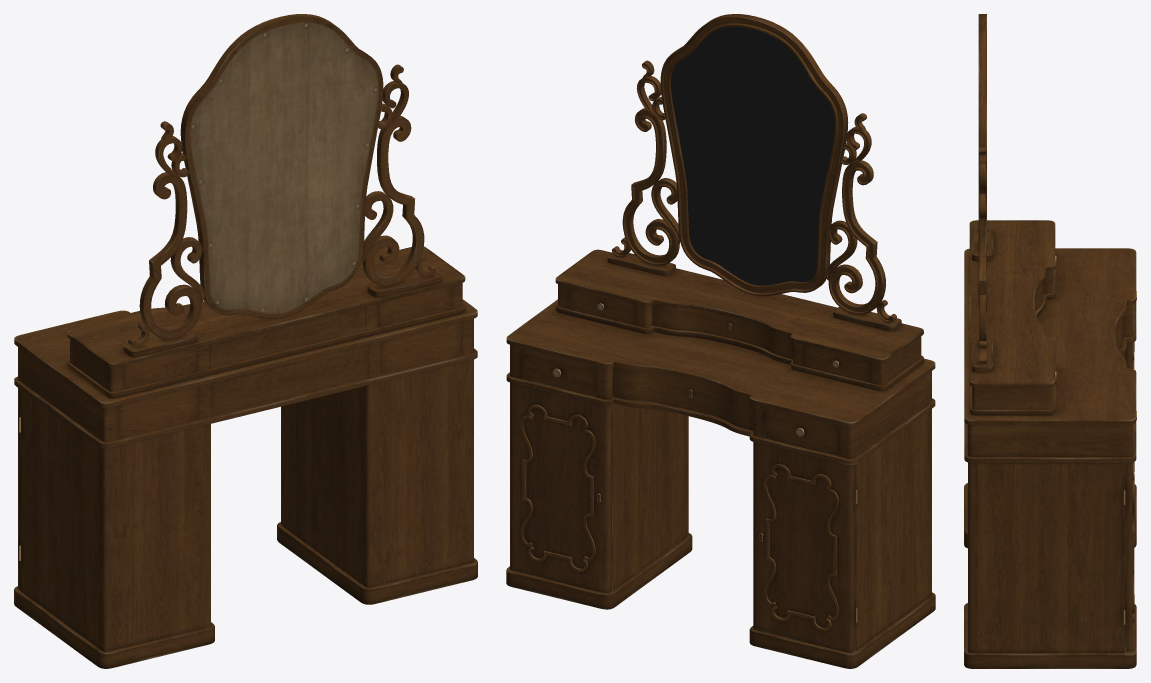
File: dressing-table-vanity.glb
3 renders of one model, left to right at view 1: azimuth 30°, elevation 25°; view 2: azimuth 150°, elevation 25°; view 3: azimuth 270°, elevation 25°, orthographic. The views are drawn at different scales.
Parts seen in each view (by area): view 1: dressing-table-vanity; view 2: dressing-table-vanity; view 3: dressing-table-vanity.
Part boxes in pixels (x1,y1,x2,y2): dressing-table-vanity: (14,14,477,668); dressing-table-vanity: (506,14,935,668); dressing-table-vanity: (964,14,1136,668).
Size of the model in its own units: 1.04 by 1.58 by 0.4422.
Materials: 1 (1 with a texture image).
